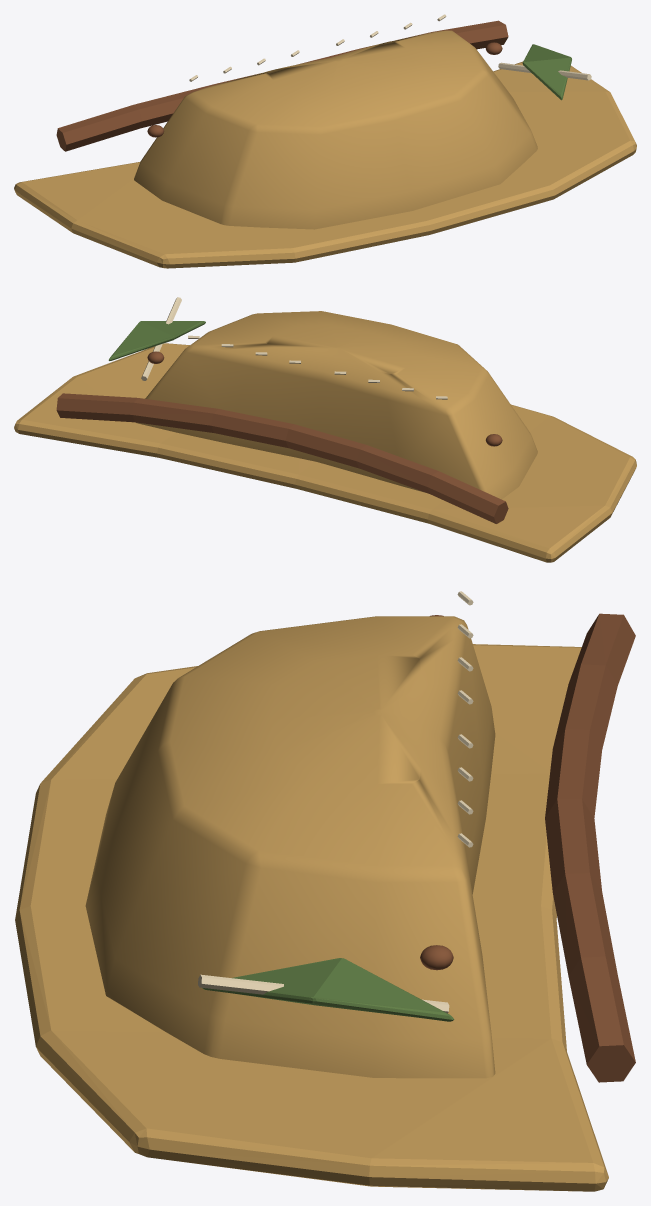
File: explorer.fbx
The picture shows the model from 3 angles, top to bottom: view 1: azimuth 30°, elevation 25°; view 2: azimuth 150°, elevation 25°; view 3: azimuth 270°, elevation 25°; orthographic projection. The views are drawn at different scales.
Parts seen in each view (by area): view 1: explorer_armor; view 2: explorer_armor; view 3: explorer_armor.
Part boxes in pixels (left/top/right/bottom): explorer_armor: left=14, top=14, right=636, bottom=268; explorer_armor: left=14, top=297, right=636, bottom=562; explorer_armor: left=15, top=591, right=635, bottom=1191.
Size of the model in its own units: 4.8 by 0.9402 by 2.38.
1 material, 1 textured.
